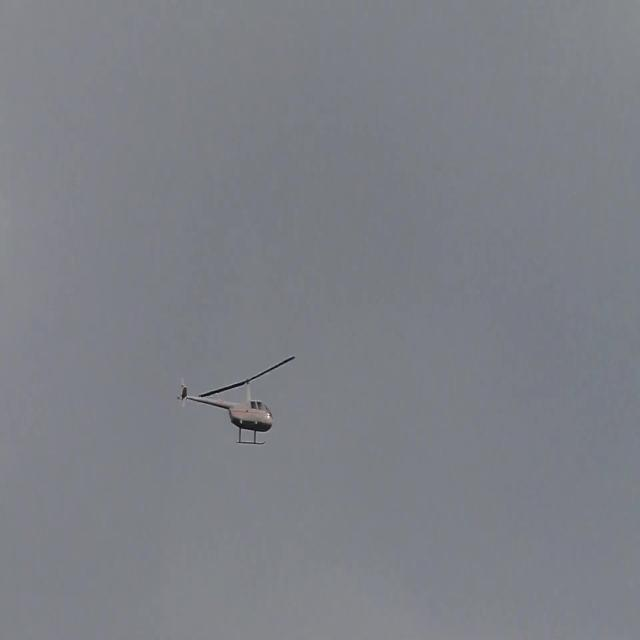CIV_HELO: (180, 376, 274, 446)
